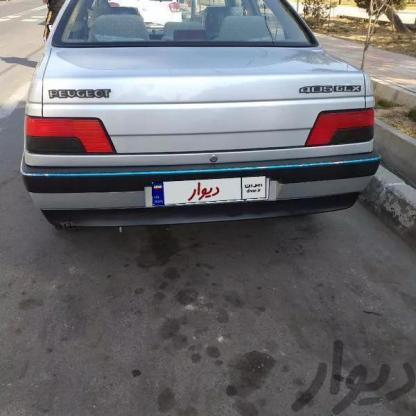Car: (0, 0, 388, 240)
